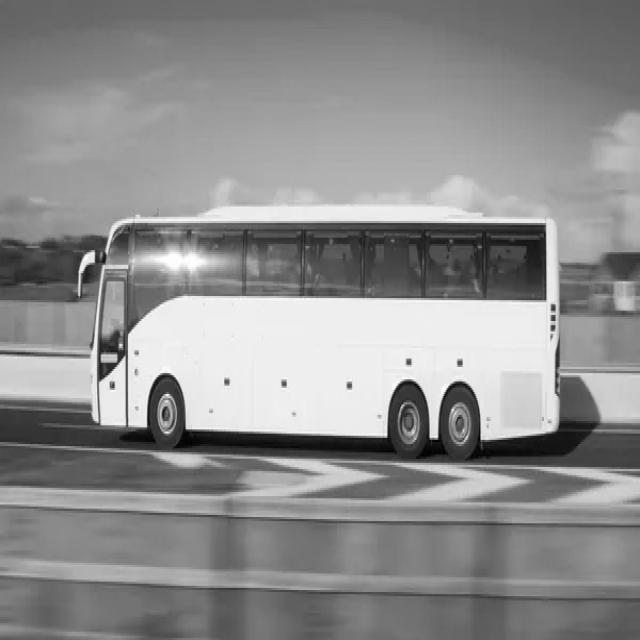Bus: (90, 204, 561, 459)
